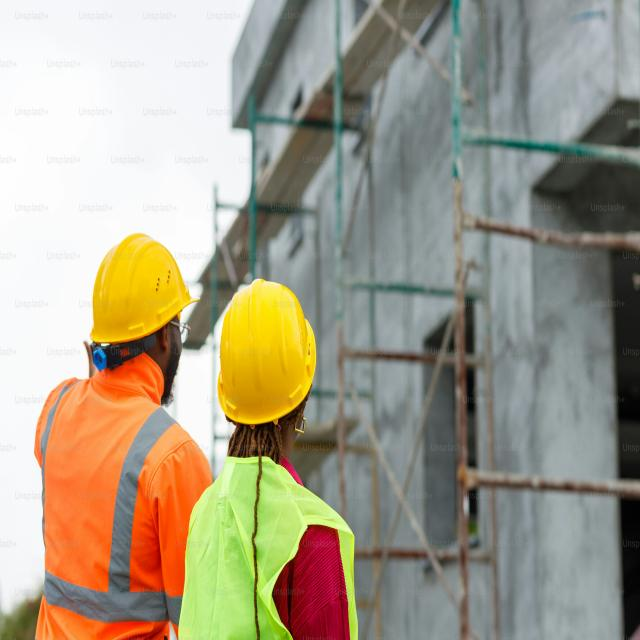Hard Hat: (215, 270, 321, 430), (86, 222, 199, 346)
Reflective Vest: (31, 361, 210, 634), (235, 449, 363, 639)
Safety Glasses: (162, 316, 196, 349)
